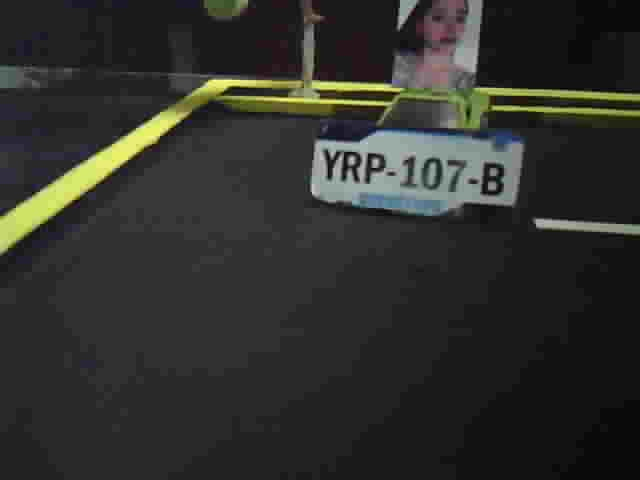PLACA: (308, 118, 527, 225)
ROSTRO: (396, 1, 474, 91)
